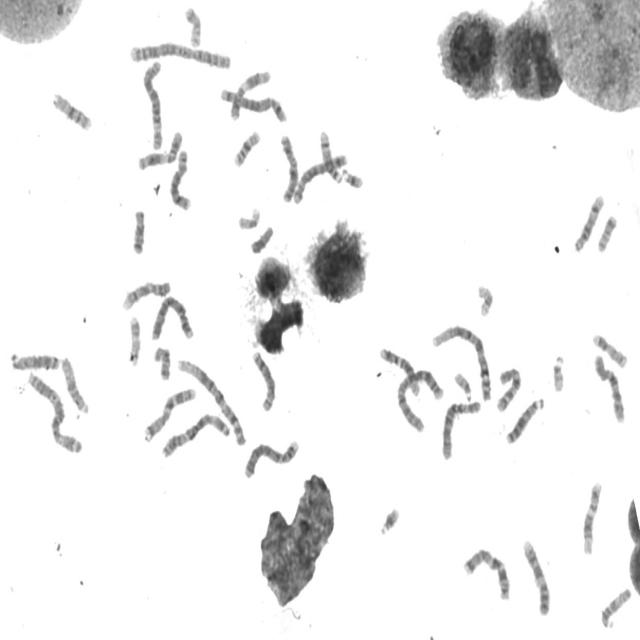A1: (174, 355, 248, 447), (429, 320, 494, 403)
A2: (394, 364, 446, 434), (126, 38, 233, 71)
A3: (24, 368, 84, 456), (159, 408, 233, 461)
B4: (242, 436, 300, 480), (148, 292, 196, 342)
B5: (290, 149, 348, 206), (218, 84, 289, 123)
C10: (591, 351, 627, 425), (494, 363, 523, 414)
C11: (227, 66, 272, 121), (135, 126, 185, 172)
C12: (377, 343, 422, 397), (580, 478, 603, 556)
C6: (439, 396, 483, 461), (140, 56, 165, 150)
C7: (142, 383, 198, 444), (460, 544, 512, 602)
C8: (249, 348, 277, 413), (167, 146, 192, 213)
C9: (520, 535, 552, 617), (119, 276, 173, 312)
D13: (504, 393, 546, 446), (8, 348, 61, 374)
D14: (572, 190, 606, 254), (317, 127, 345, 184)
D15: (58, 353, 90, 416), (598, 584, 633, 630)
E16: (50, 88, 94, 133), (230, 126, 262, 169)
E17: (590, 329, 629, 370), (126, 312, 142, 368)
E18: (130, 206, 147, 256), (151, 342, 172, 382)
F19: (475, 280, 495, 319), (236, 203, 262, 230)
F20: (595, 211, 619, 254), (182, 2, 204, 48)
G21: (377, 503, 401, 537), (340, 164, 365, 191)
G22: (451, 367, 474, 401), (550, 351, 566, 394)
X: (277, 132, 299, 204)
Y: (248, 222, 274, 256)
